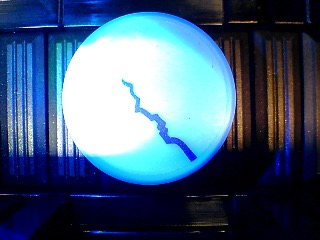CRACK: (61, 11, 237, 186)
